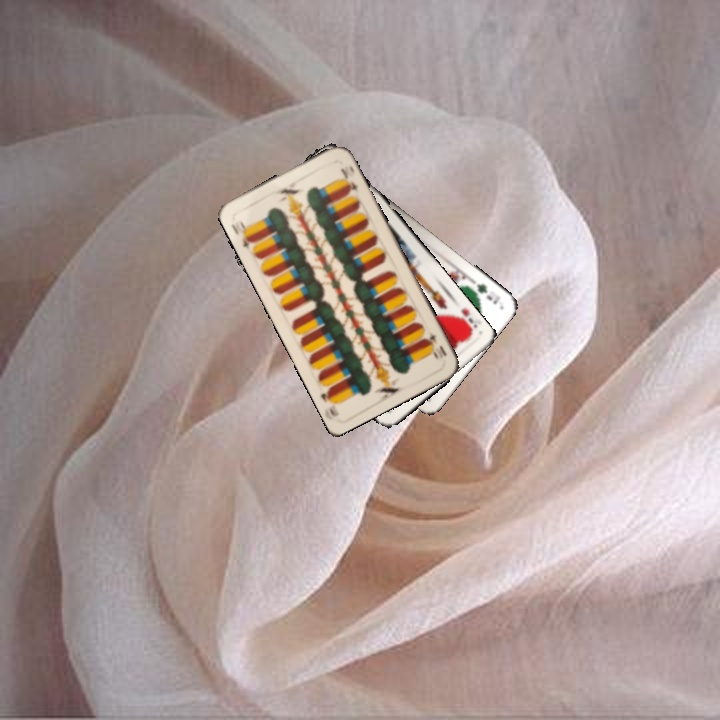E10: (227, 216, 257, 251), (421, 328, 449, 361)
GK: (473, 279, 503, 307)
HK: (448, 304, 480, 338)
